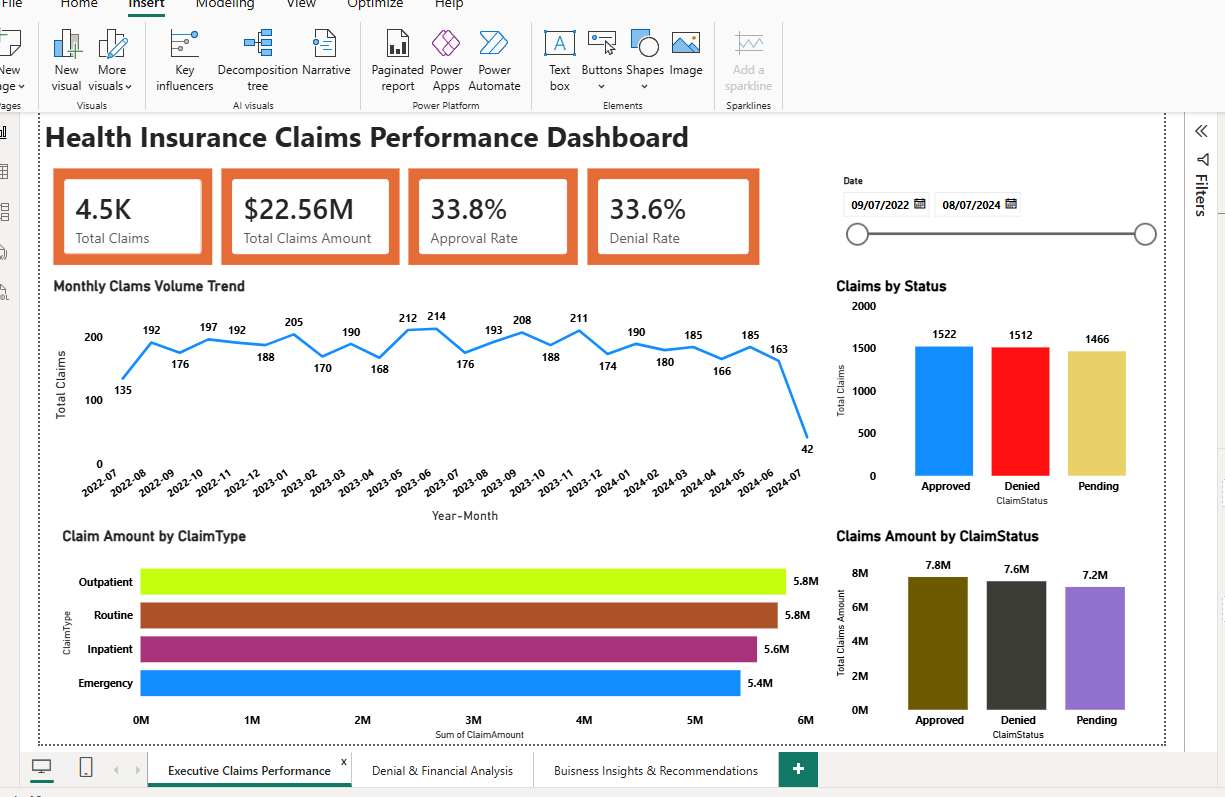

The page's visual inventory and layout, read from the dashboard file:
{"tool":"powerbi","page":{"name":"Executive Claims Performance","canvas":[1280,720],"ordinal":0},"visuals":[{"type":"cardVisual","fields":{"Data":["FactClaims.Total Claims"]},"box":[10.3,59.2,191.4,120.8],"z":0},{"type":"cardVisual","fields":{"Data":["FactClaims.Total Claims Amount"]},"box":[201.6,59.2,213,120.8],"z":1000},{"type":"cardVisual","fields":{"Data":["FactClaims.Approval Rate"]},"box":[414.7,59.2,203.9,120.8],"z":2000},{"type":"cardVisual","fields":{"Data":["FactClaims.Denial Rate"]},"box":[618.6,59.2,206.2,120.8],"z":3000},{"type":"lineChart","title":"Monthly Clams Volume Trend","fields":{"Y":["FactClaims.Total Claims"],"Category":["FactClaims.Year-Month"]},"box":[10.3,188,881.8,284.8],"z":4000},{"type":"clusteredColumnChart","title":"Claims by Status","fields":{"Y":["FactClaims.Total Claims"],"Category":["FactClaims.ClaimStatus"]},"box":[902.3,188,378.2,265.4],"z":5000},{"type":"clusteredBarChart","title":"Claim Amount by ClaimType","fields":{"Category":["FactClaims.ClaimType"],"Y":["Sum(FactClaims.ClaimAmount)"]},"box":[20.8,472.7,881.5,247.4],"z":6000},{"type":"clusteredColumnChart","title":"Claims Amount by ClaimStatus","fields":{"Category":["FactClaims.ClaimStatus"],"Y":["FactClaims.Total Claims Amount"]},"box":[902.3,472.8,378.2,247.2],"z":7000},{"type":"textbox","box":[0,0,847.6,59.2],"z":8000},{"type":"slicer","fields":{"Values":["DimDate.Date"]},"box":[902.4,67.7,377.6,102.9],"z":9000}]}

Visuals, with their boxes on the page's 1280x720 design canvas (x1, y1, x2, y2). These are canvas units, not pixel positions in the 1225x797 screenshot, which may show the page scaled, cropped or inside an application window:
cardVisual - FactClaims.Total Claims: locate(10, 59, 202, 180)
cardVisual - FactClaims.Total Claims Amount: locate(202, 59, 415, 180)
cardVisual - FactClaims.Approval Rate: locate(415, 59, 619, 180)
cardVisual - FactClaims.Denial Rate: locate(619, 59, 825, 180)
"Monthly Clams Volume Trend" lineChart: locate(10, 188, 892, 473)
"Claims by Status" clusteredColumnChart: locate(902, 188, 1280, 453)
"Claim Amount by ClaimType" clusteredBarChart: locate(21, 473, 902, 720)
"Claims Amount by ClaimStatus" clusteredColumnChart: locate(902, 473, 1280, 720)
textbox: locate(0, 0, 848, 59)
slicer - DimDate.Date: locate(902, 68, 1280, 171)
